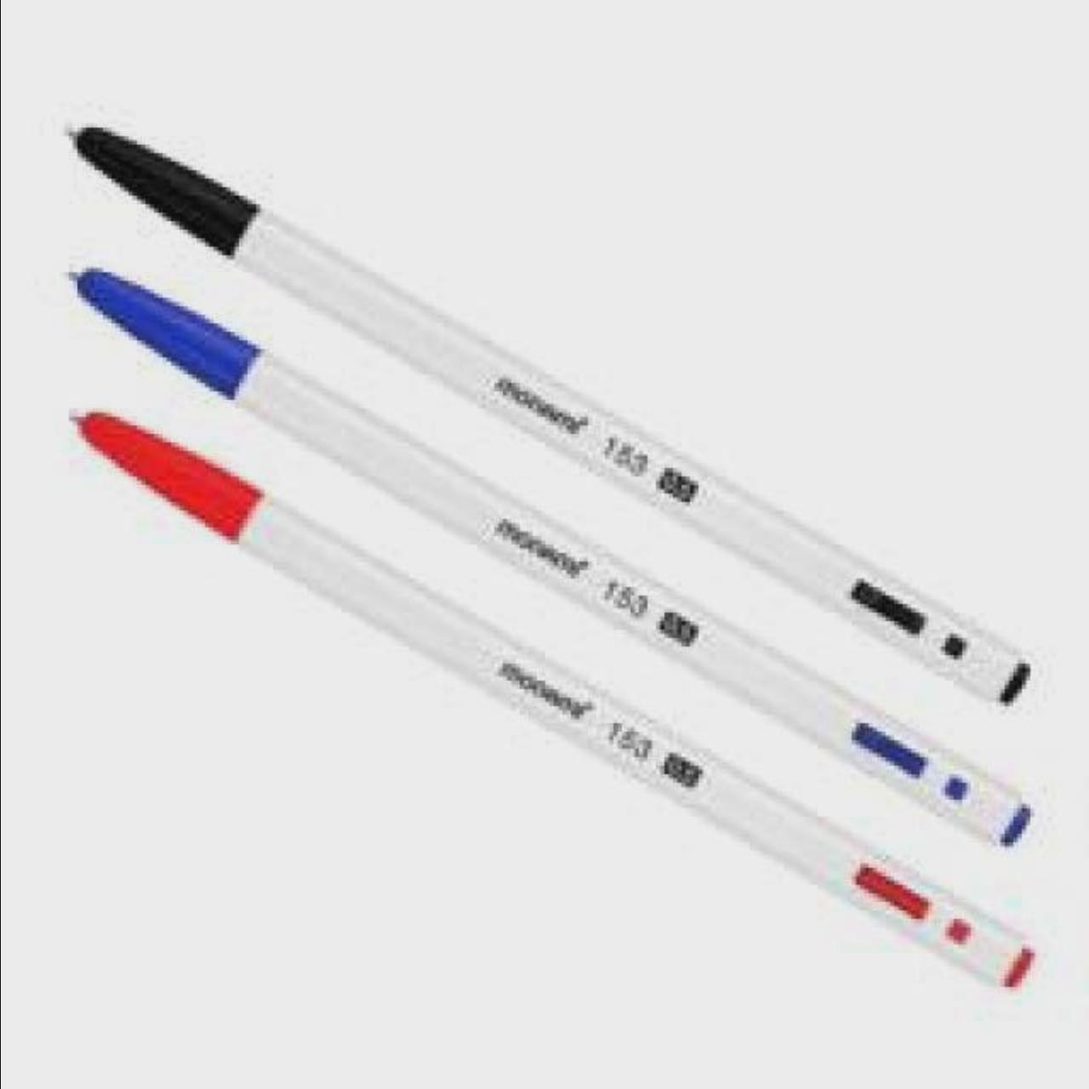pen: (49, 119, 1033, 720)
